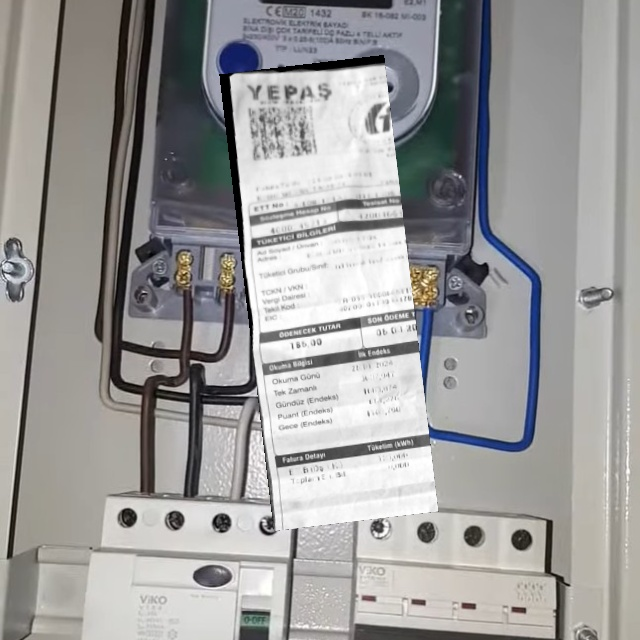electricity-bill: (218, 54, 438, 530)
